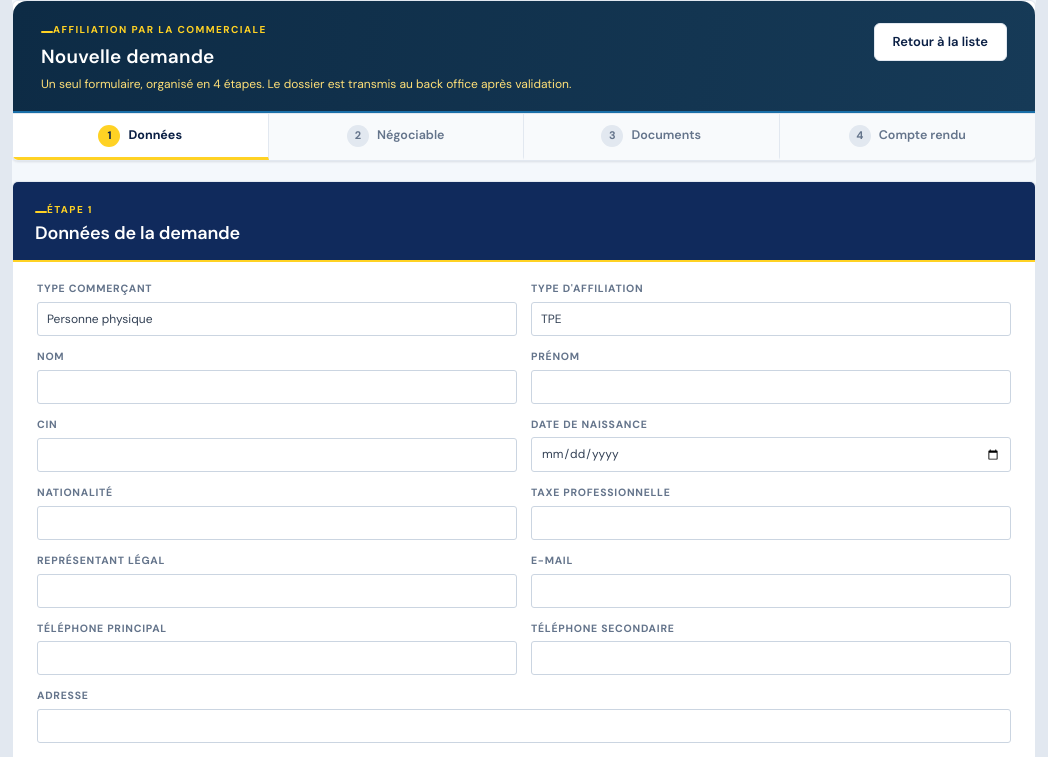
Test: CommercialDossierCreatePage › affiche la liste des documents requis pour une personne morale
Select "Personne morale" in the dropdown labelled "Type commerçant" at (277, 319), box [37, 302, 517, 336]
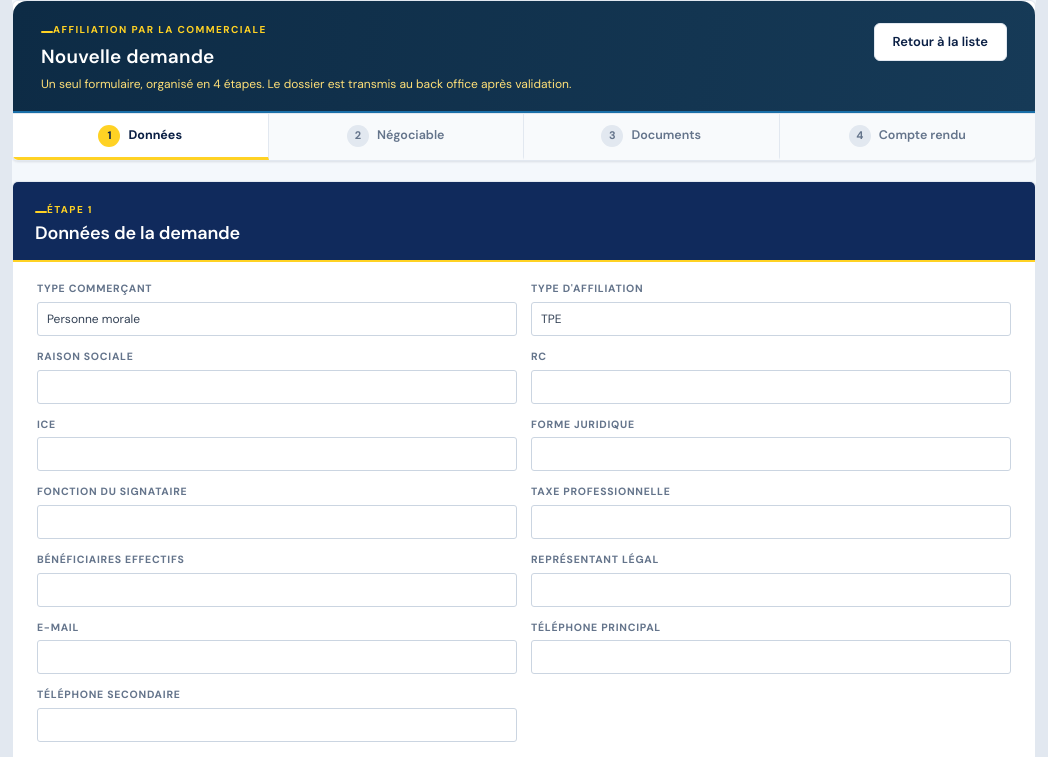
Click the button "3 Documents" at (652, 137), box [524, 114, 780, 160]
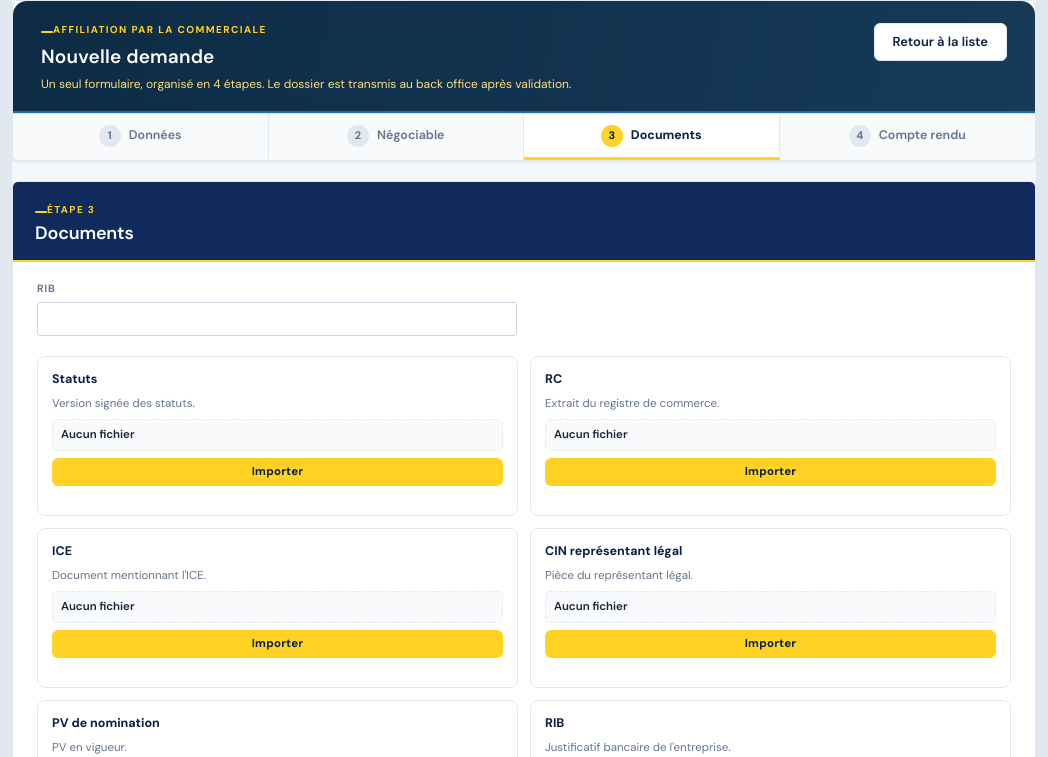
Expected: the text "ICE" is shown, [52, 543, 72, 559]
Expected: the text "Statuts" is shown, [52, 371, 97, 387]
Expected: the text "RC" is shown, [545, 371, 562, 387]
